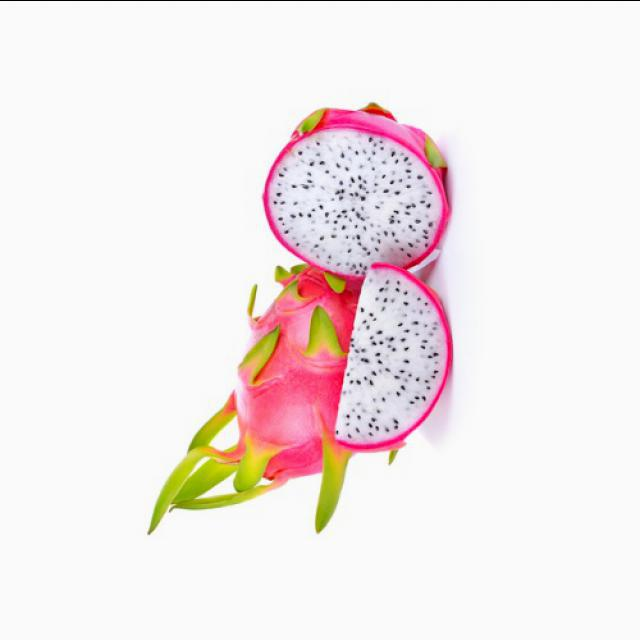trang: (150, 264, 376, 524), (262, 99, 458, 275), (332, 263, 457, 452)
